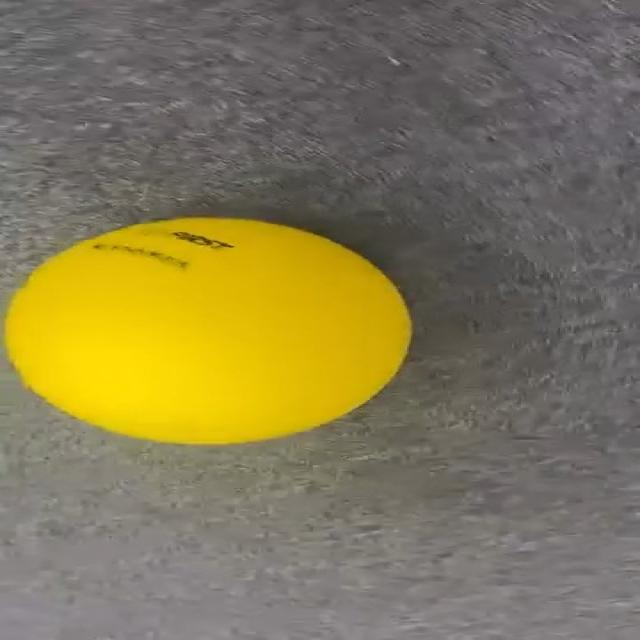Fuels: (5, 218, 409, 444)
